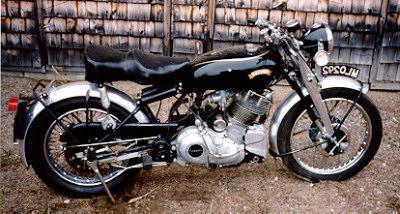motorcycle: (3, 10, 393, 203)
